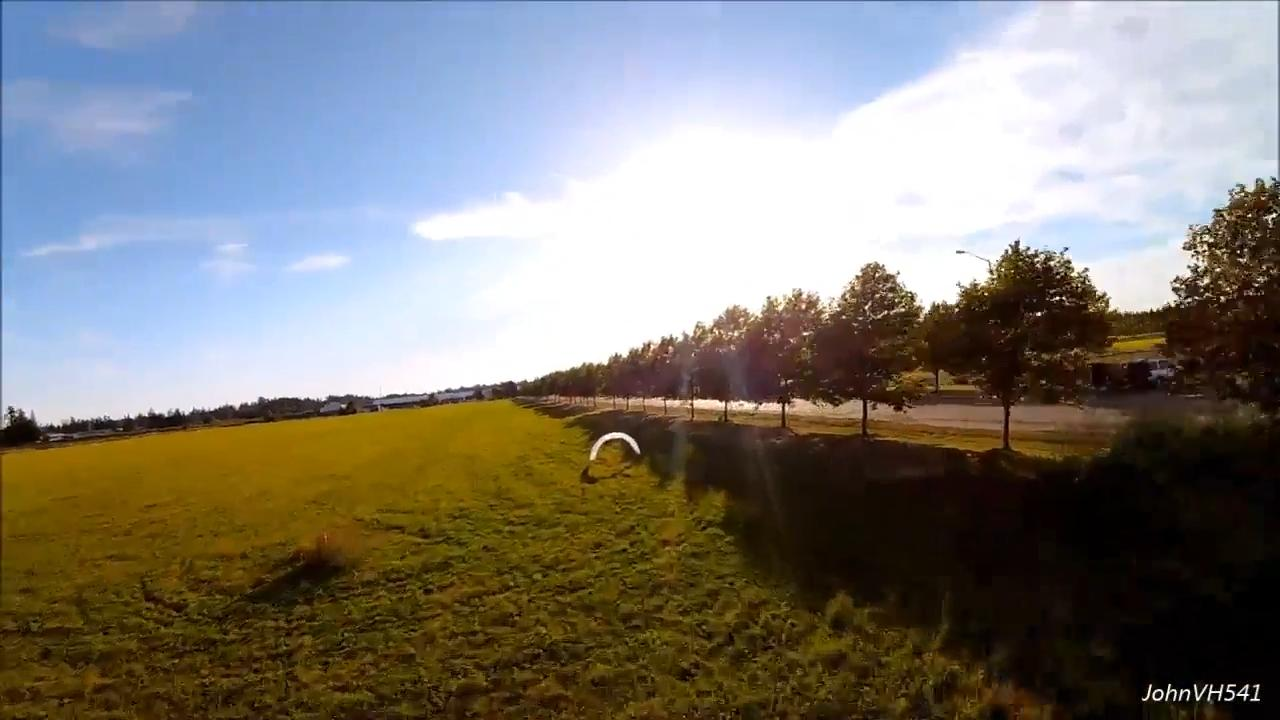gate: (587, 431, 641, 464)
